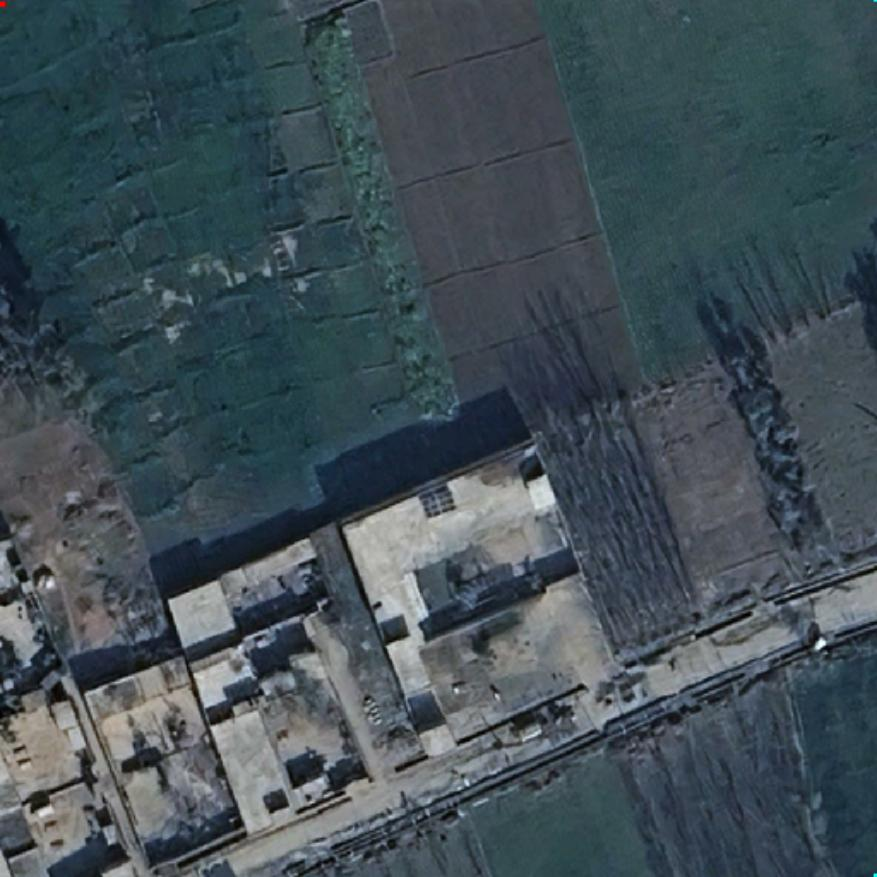Solarpanel: (418, 482, 460, 520)
